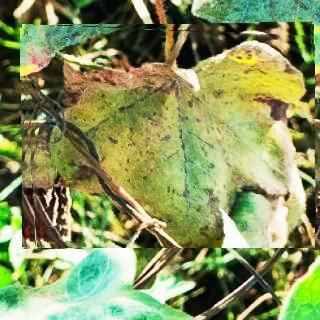leaf spot: (21, 23, 315, 248)
